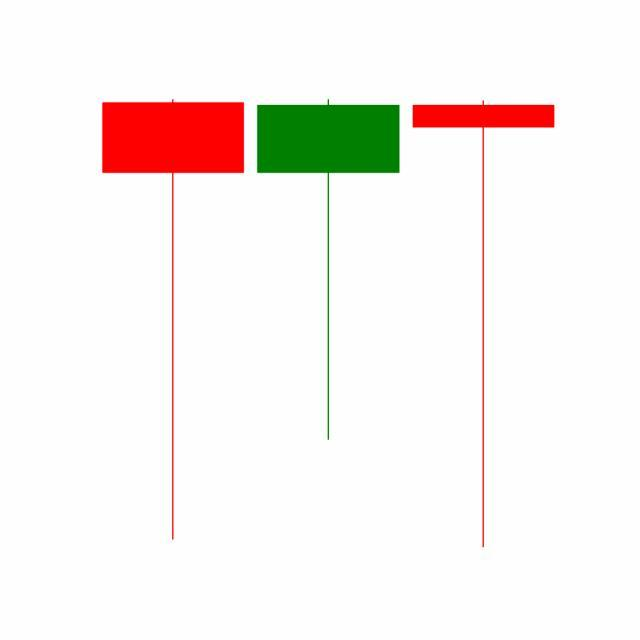Hanging Man: (250, 97, 407, 445)
